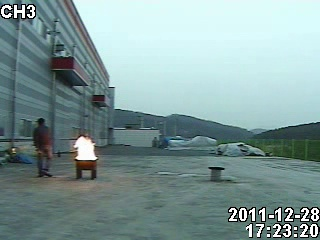fire: (72, 135, 100, 162)
